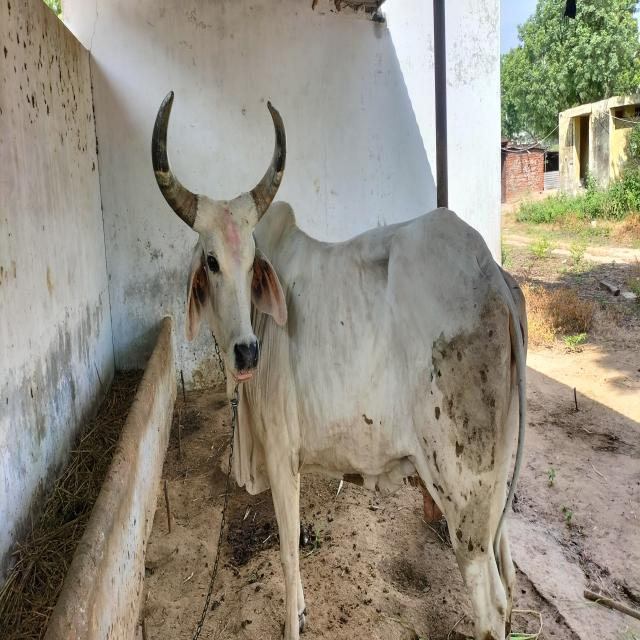Breed: (136, 81, 539, 640)
